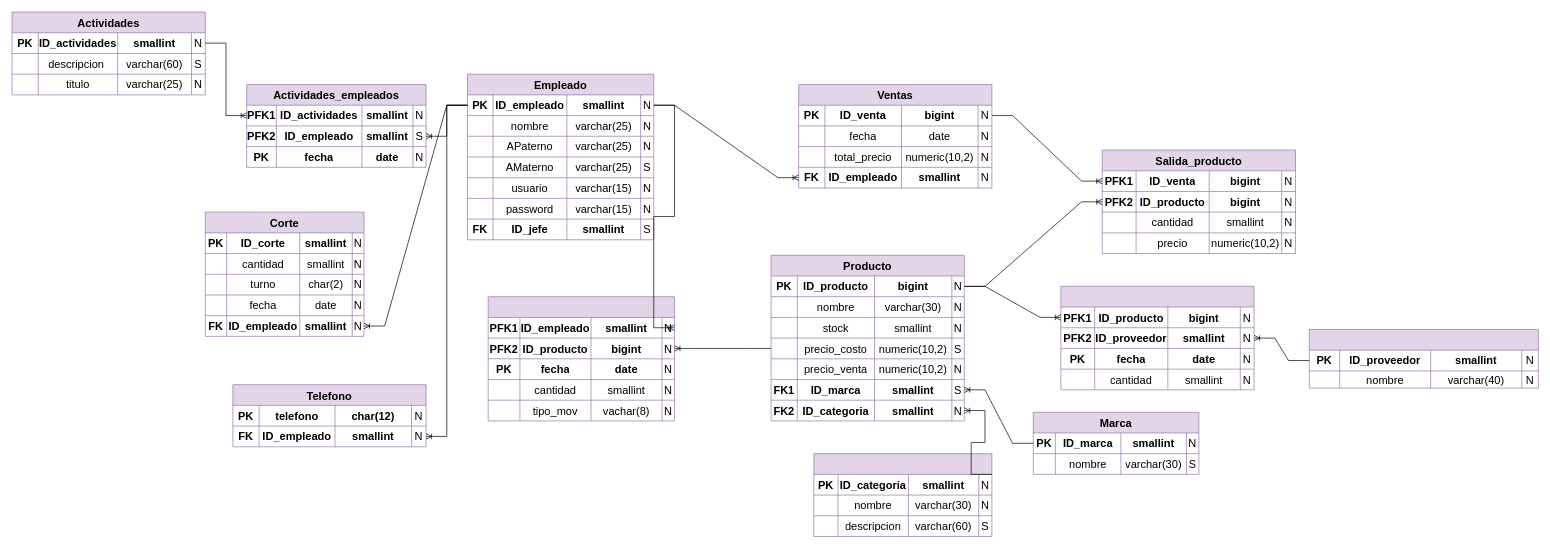
The diagram is 1550 pixels wide and 549 high, and some of its shapes have lost their labels. The shapes that lost their labels are listed below. From the top down, each one's box as (x1, y1, x2, y2) in pixels, then its label:
(1060, 286, 1254, 390): Suministro_producto
(487, 296, 674, 421): Movimiento_producto
(1309, 329, 1538, 388): Proveedores
(813, 453, 992, 536): Categoría
